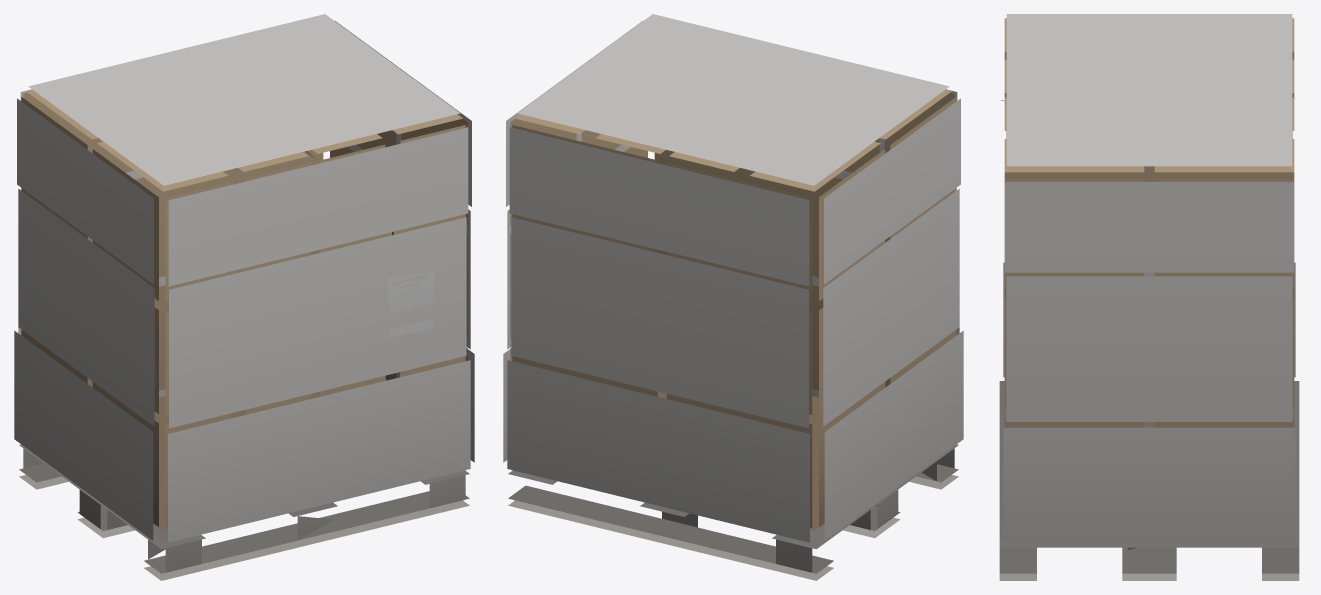
The model's file is palletload.lod.glb.
3 views of the same model, side by side, from view 1: azimuth 30°, elevation 25°; view 2: azimuth 150°, elevation 25°; view 3: azimuth 270°, elevation 25° (orthographic). The views are drawn at different scales.
Parts seen in each view (by area): view 1: palletload; view 2: palletload; view 3: palletload.
Boxes of the visible parts, <box> form: palletload: <box>14,14,474,580</box>; palletload: <box>503,14,963,580</box>; palletload: <box>999,14,1299,580</box>.
Bounding box in the file's own units: 1.04 × 1.21 × 0.84.
